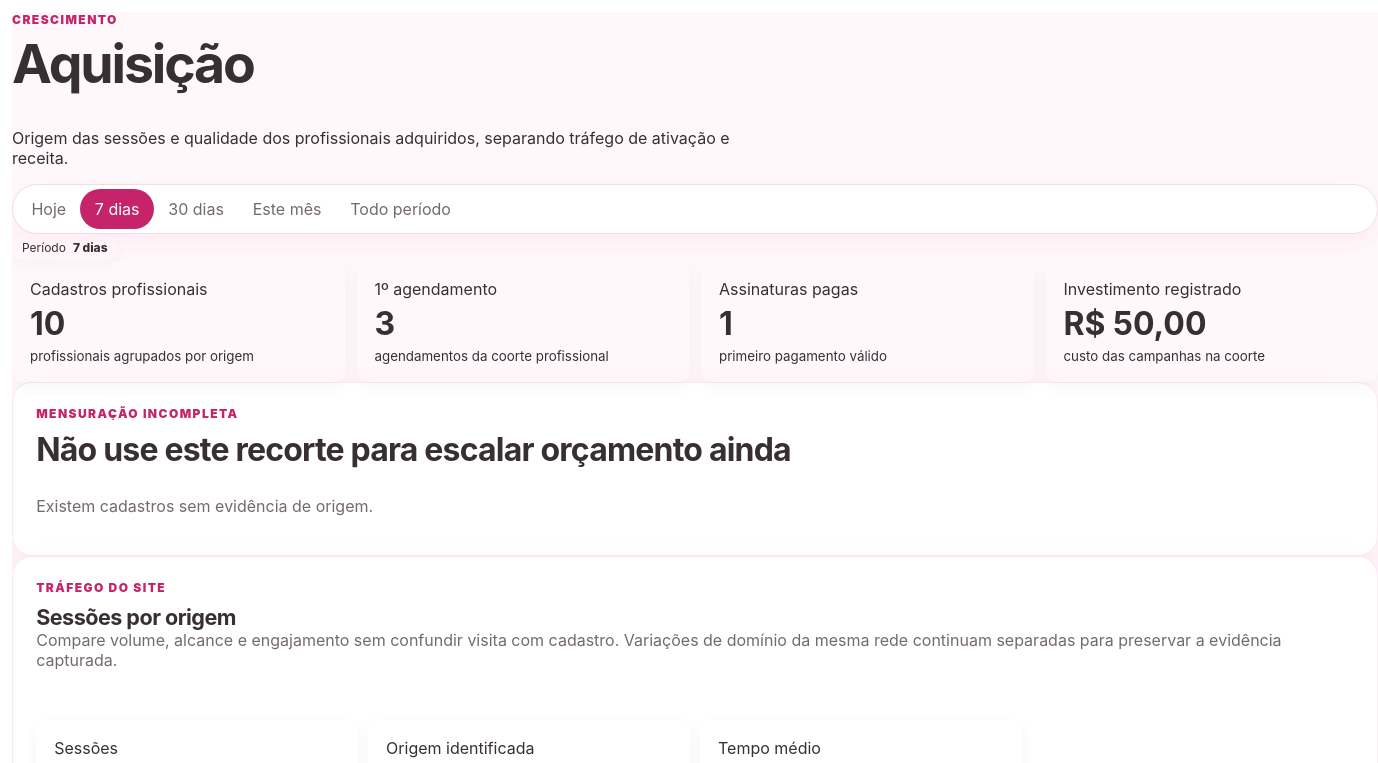
Test case: aquisição administrativa v2 › identifica o período dos últimos dados válidos quando a atualização falha
The image size is (1378, 763).
Step 1. Click the button "30 dias" → (196, 209), box [154, 189, 238, 229]
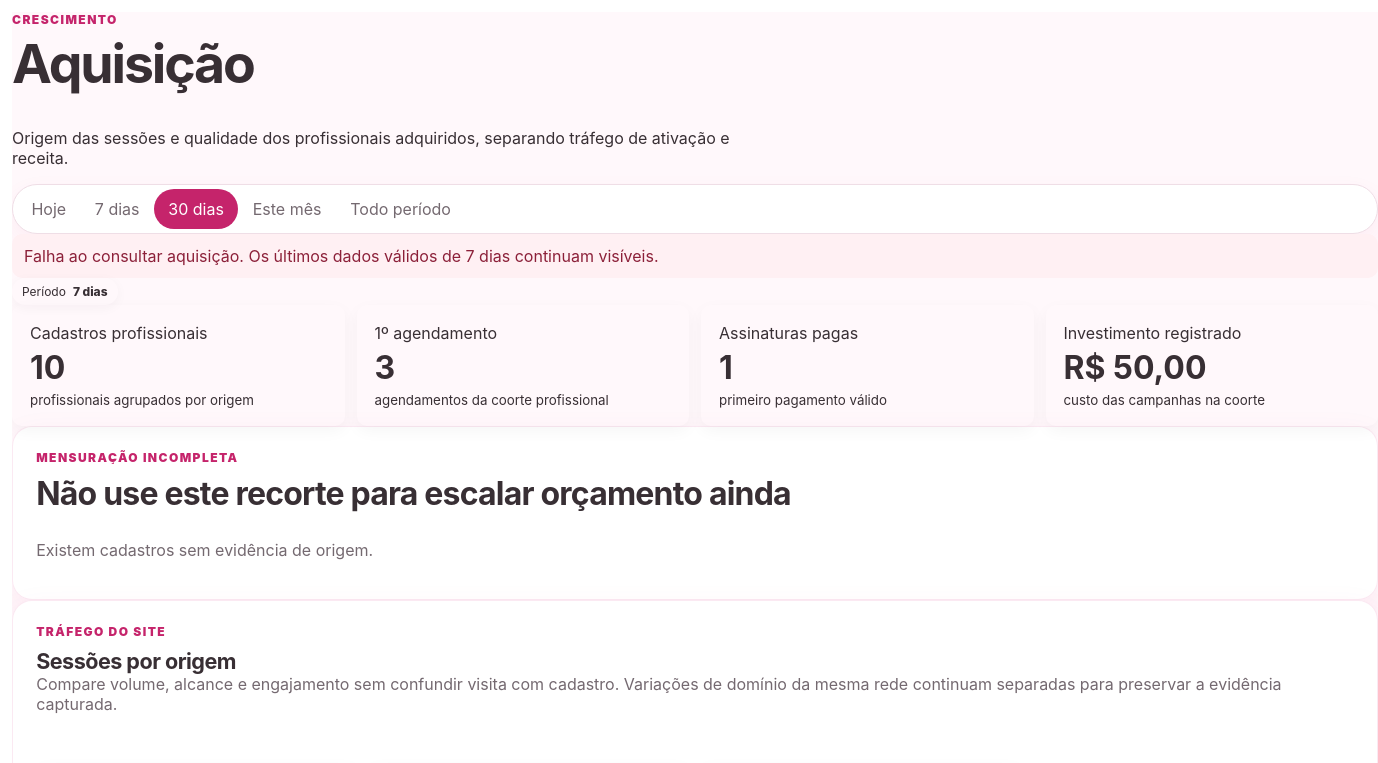
Check: the element named "Recorte temporal" shows "7 dias", box [73, 284, 108, 299]
Check: the message that starts with "Falha ao consultar aquisição." shows "últimos dados válidos", box [244, 246, 466, 266]
